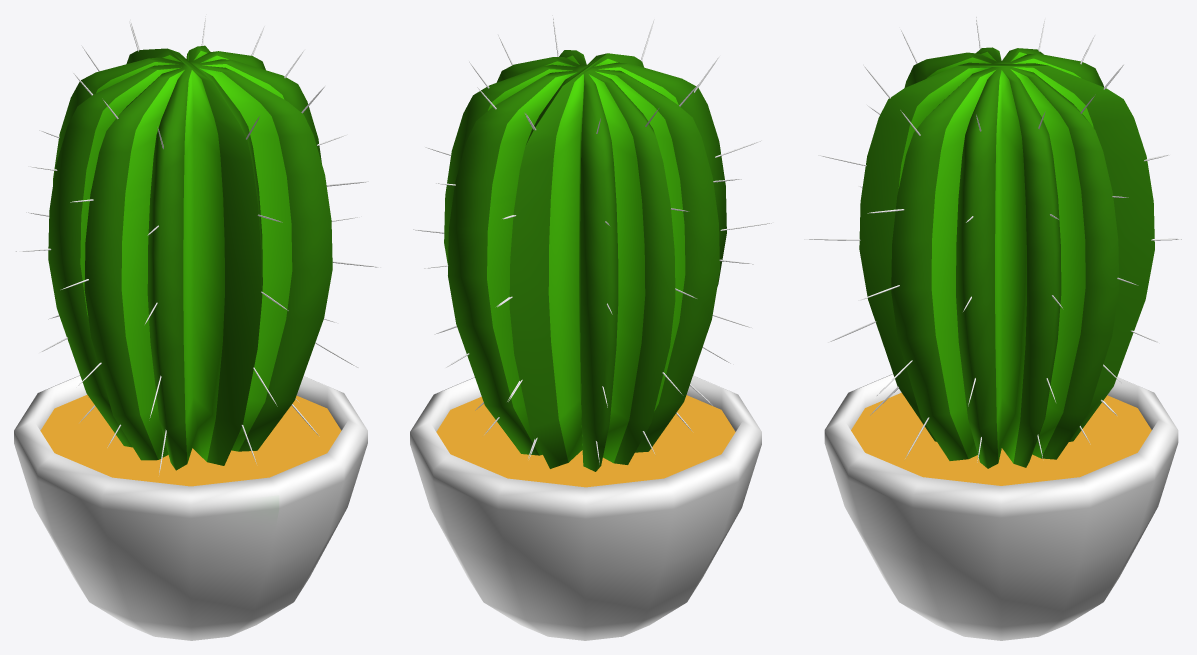
The picture shows the model from 3 angles, left to right: view 1: azimuth 30°, elevation 25°; view 2: azimuth 150°, elevation 25°; view 3: azimuth 270°, elevation 25°; orthographic projection.
Visible parts, largest first — view 1: サボテン; view 2: サボテン; view 3: サボテン.
Part boxes in pixels (box(x1,y1,x2,y2)): サボテン: box(14, 14, 379, 640); サボテン: box(410, 15, 774, 640); サボテン: box(804, 16, 1181, 640).
Bounding box in the file's own units: 0.185 × 0.3148 × 0.1981.
Materials: 1 (1 with a texture image).
